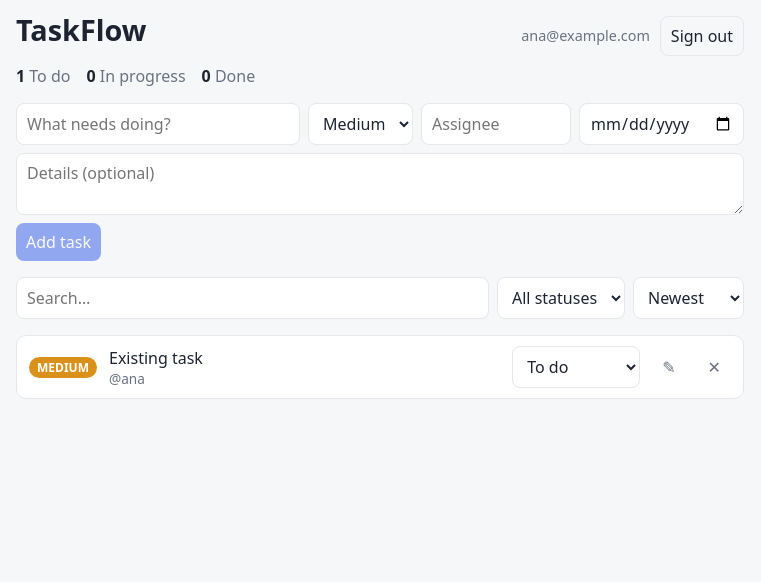
Scenario: tasks › cancelling an edit discards the changes
Expected: the text "Existing task" is shown, 109,346 -> 203,368
Click the button named "Edit Existing task" at (669, 367), box 652,348 -> 686,386
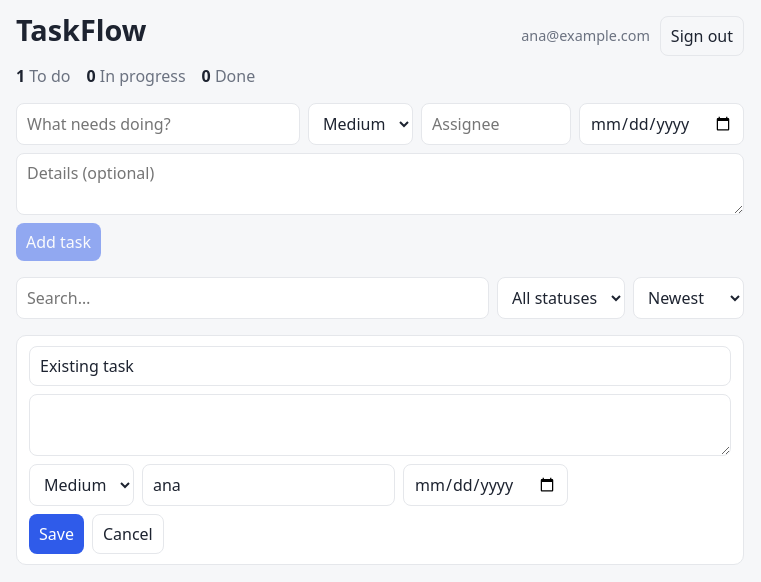
Type " changed" into the field named "Edit title" at (380, 366), box 29,346 -> 731,386
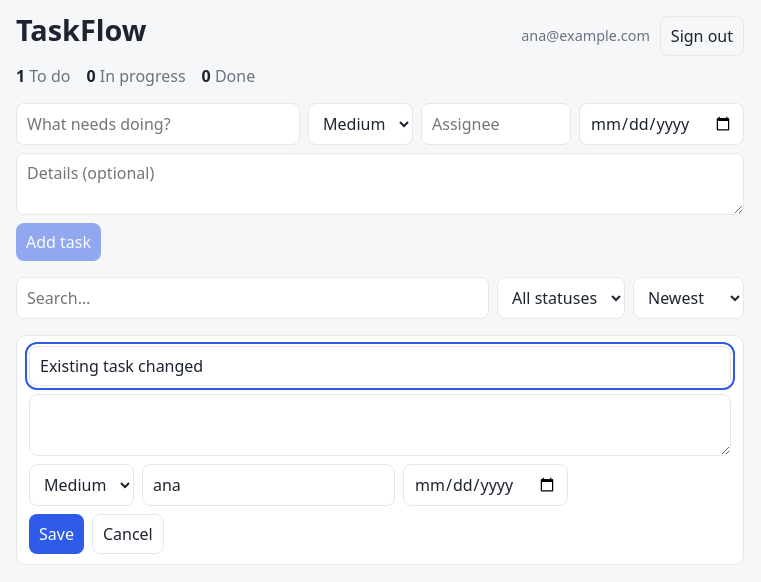
Click the button "Cancel" at (128, 534), box 92,514 -> 164,554
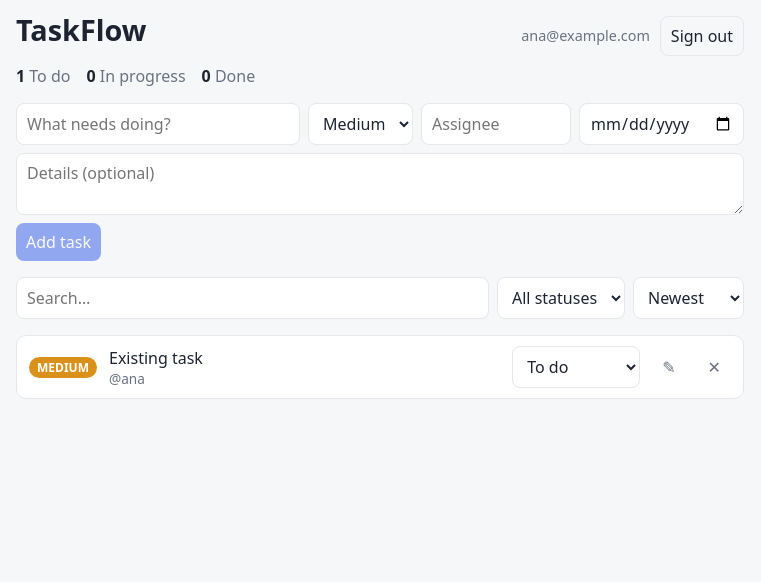
Expected: the text "Existing task" is shown, 109,346 -> 203,368
